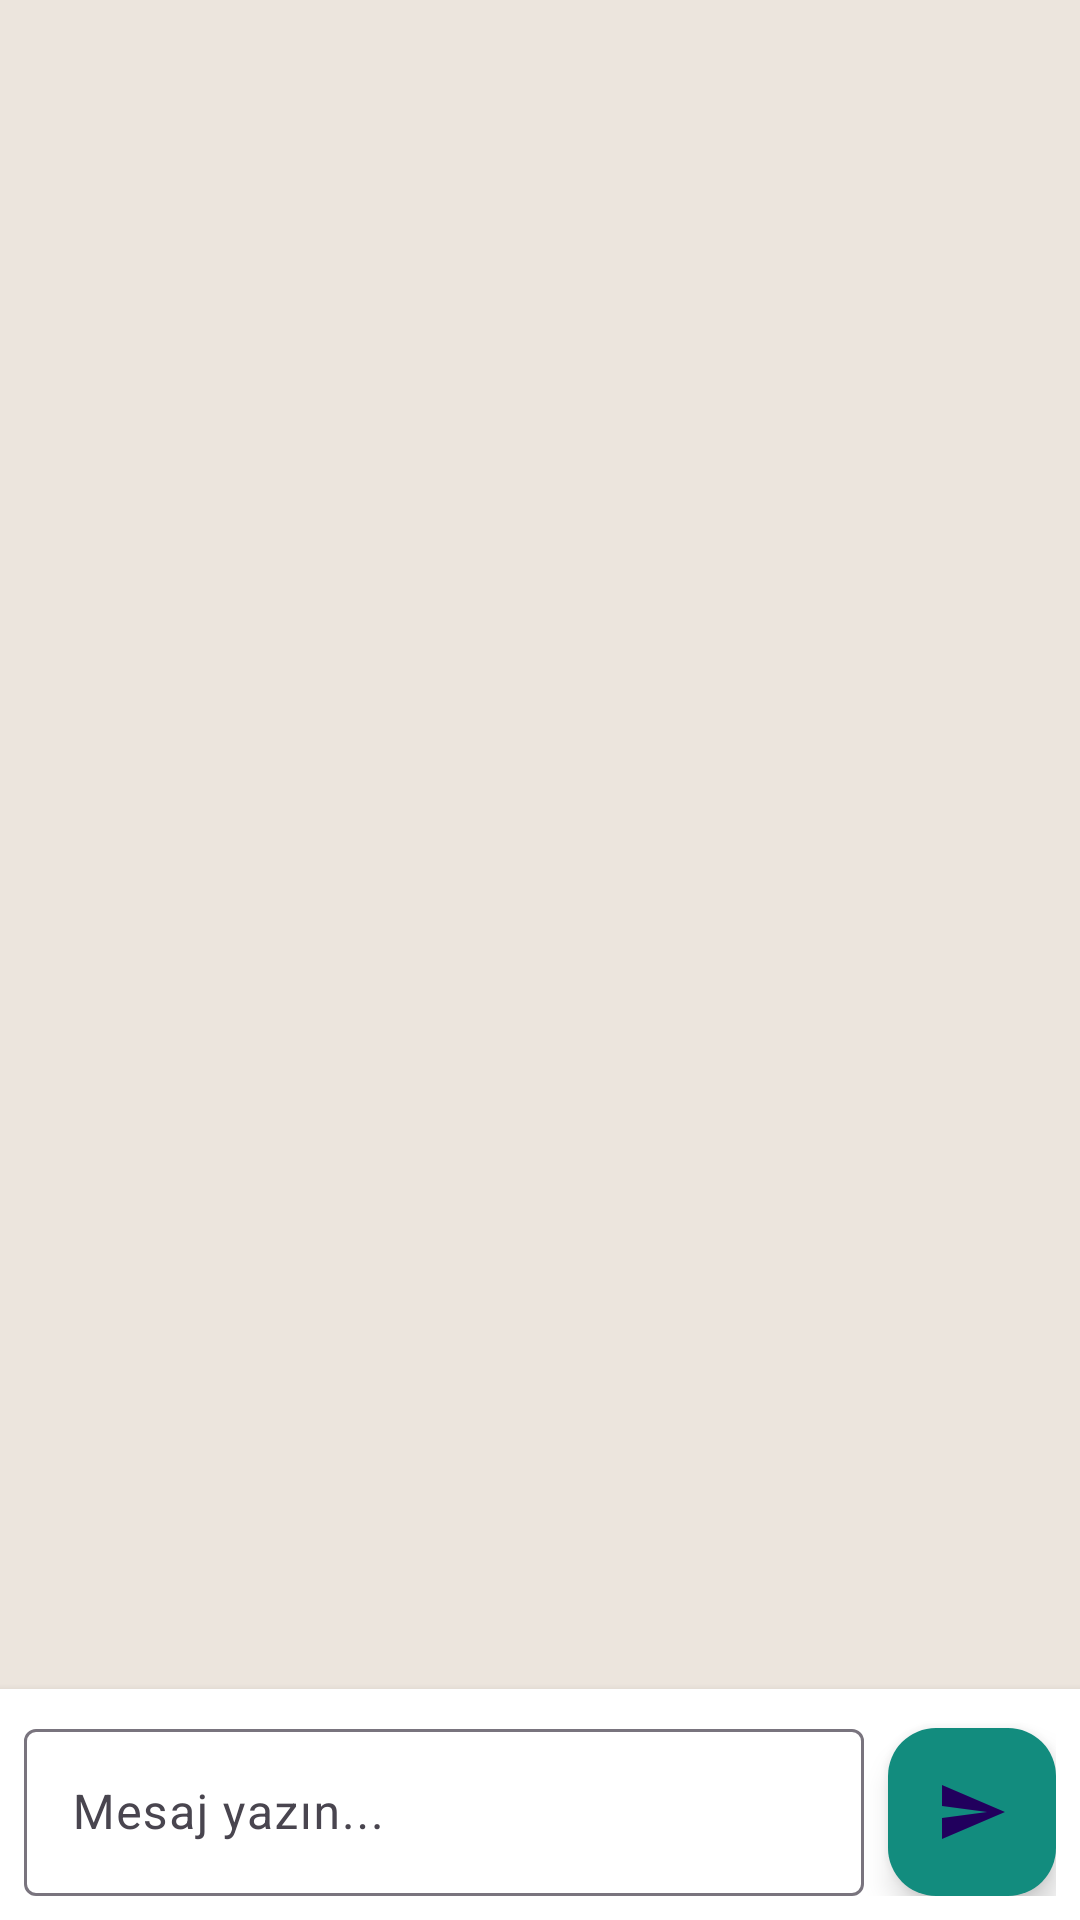

Where to tap for icons on this 1080px×1920px app screen, as [x,y]:
Gönder: [972,1812]
